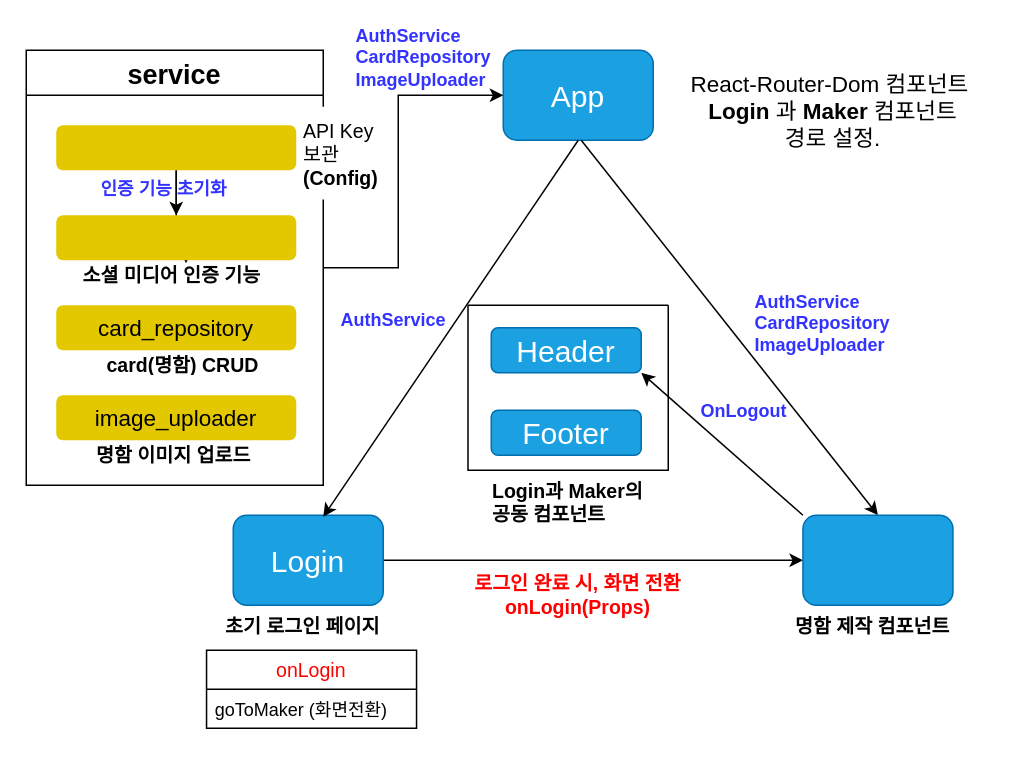
Some shapes in this 1010 by 759 pixel diagram are drawn without their labels. The centre of each missing label's shape, as x and y in pixels:
auth_service: the point at 176,237
firebase: the point at 176,147
Maker: the point at 877,559
로그아웃: the point at 567,387
